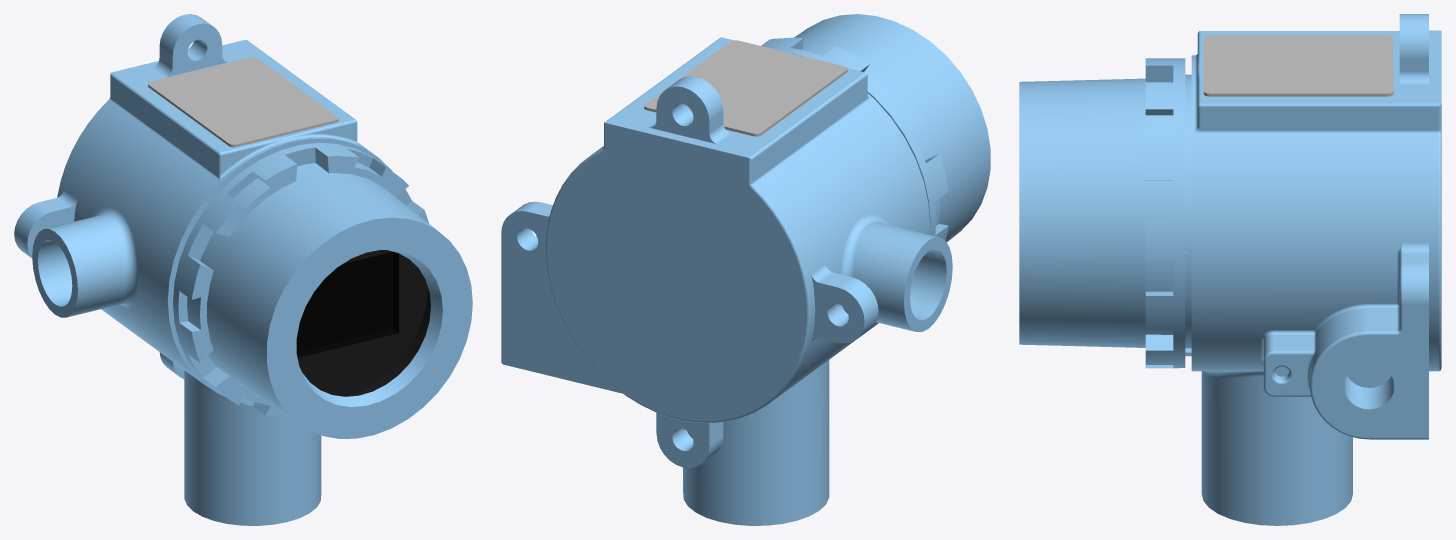
Rendered from 25 Temperature transmitter assem.fbx.
3 renders of one model, left to right at view 1: azimuth 30°, elevation 25°; view 2: azimuth 150°, elevation 25°; view 3: azimuth 270°, elevation 25°, orthographic. The views are drawn at different scales.
Visible parts, largest first — view 1: color-2; view 2: color-2; view 3: color-2.
Part boxes in pixels (<box>): color-2: <box>14,14,472,525</box>; color-2: <box>501,14,990,525</box>; color-2: <box>1019,14,1441,525</box>.
Size of the model in its own units: 19.52 by 23.06 by 18.48.
